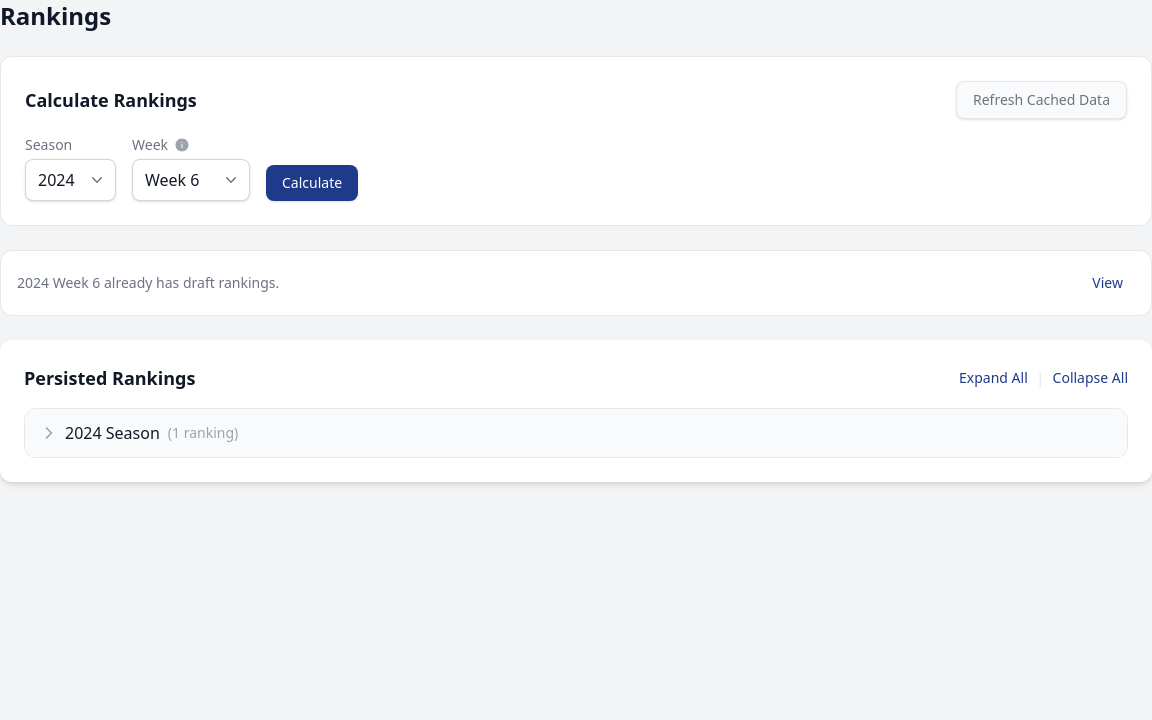
RankingsSnapshotsPage › clears calculated result when matching rankings snapshot is deleted
Click the button "Calculate" at (312, 183), box x1=266 y1=165 x2=358 y2=201
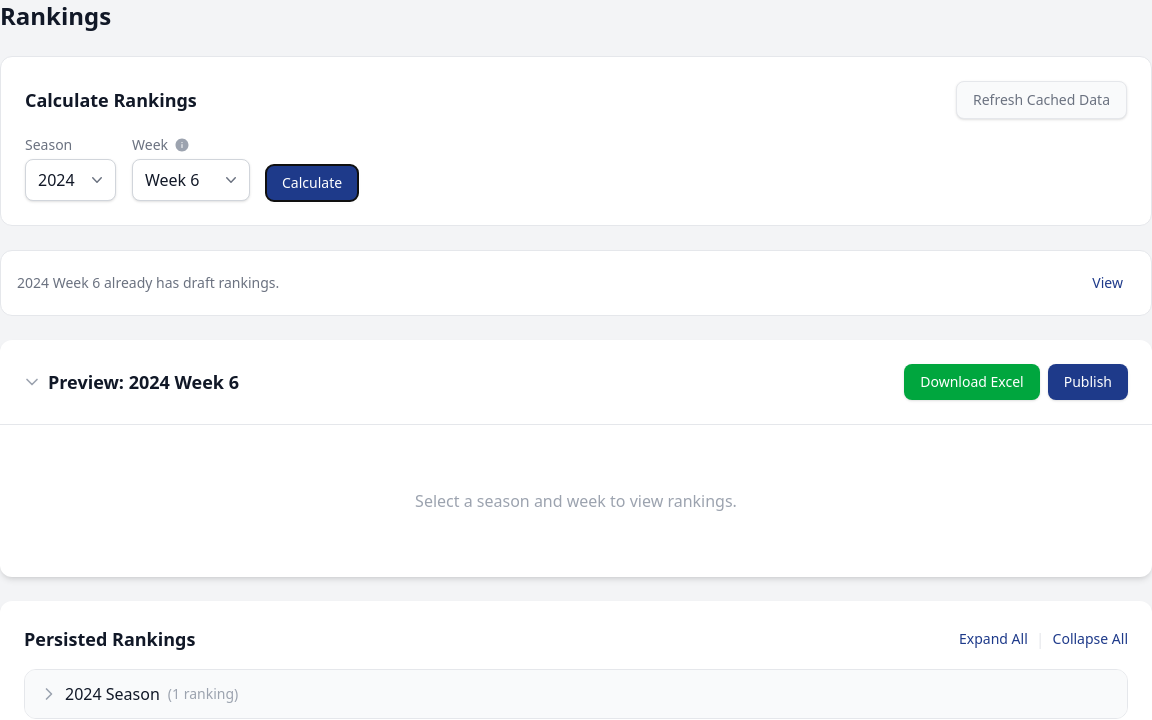
Expected: the button "Preview: 2024 Week 6" is shown, x1=24 y1=368 x2=239 y2=396
Click the text "2024 Season" at (112, 694), box x1=65 y1=682 x2=160 y2=706
(page scrolled)
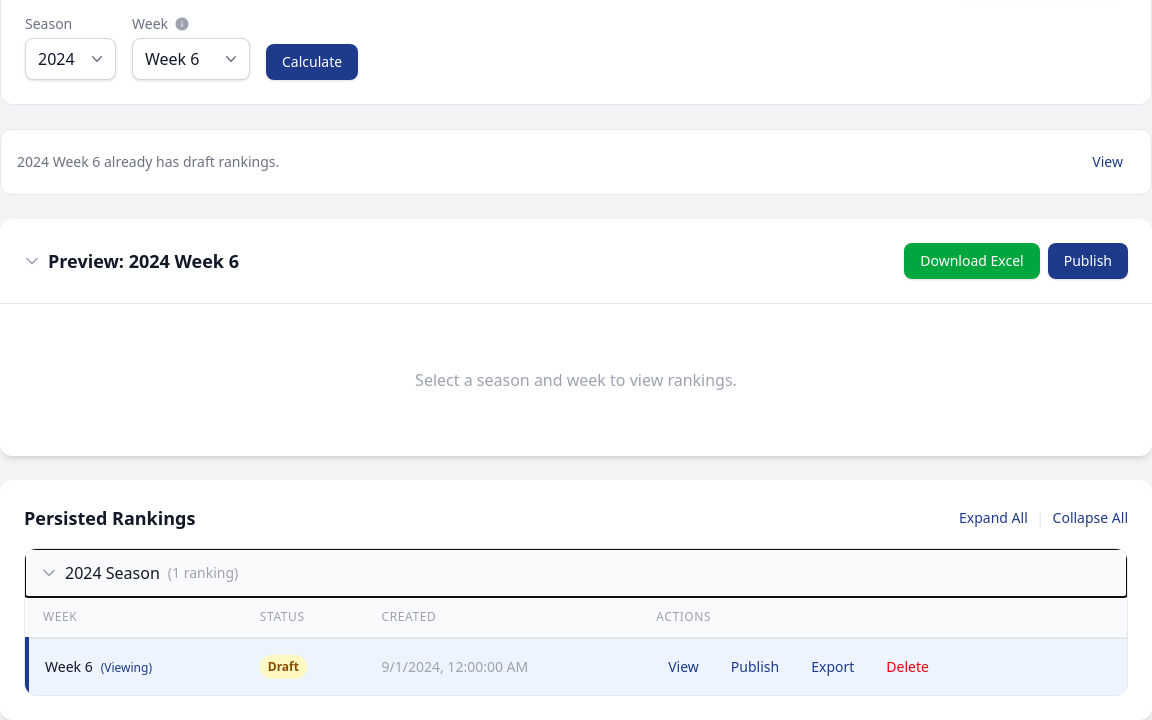
Click the button "Delete" at (908, 667), box x1=874 y1=651 x2=941 y2=683
(page scrolled)
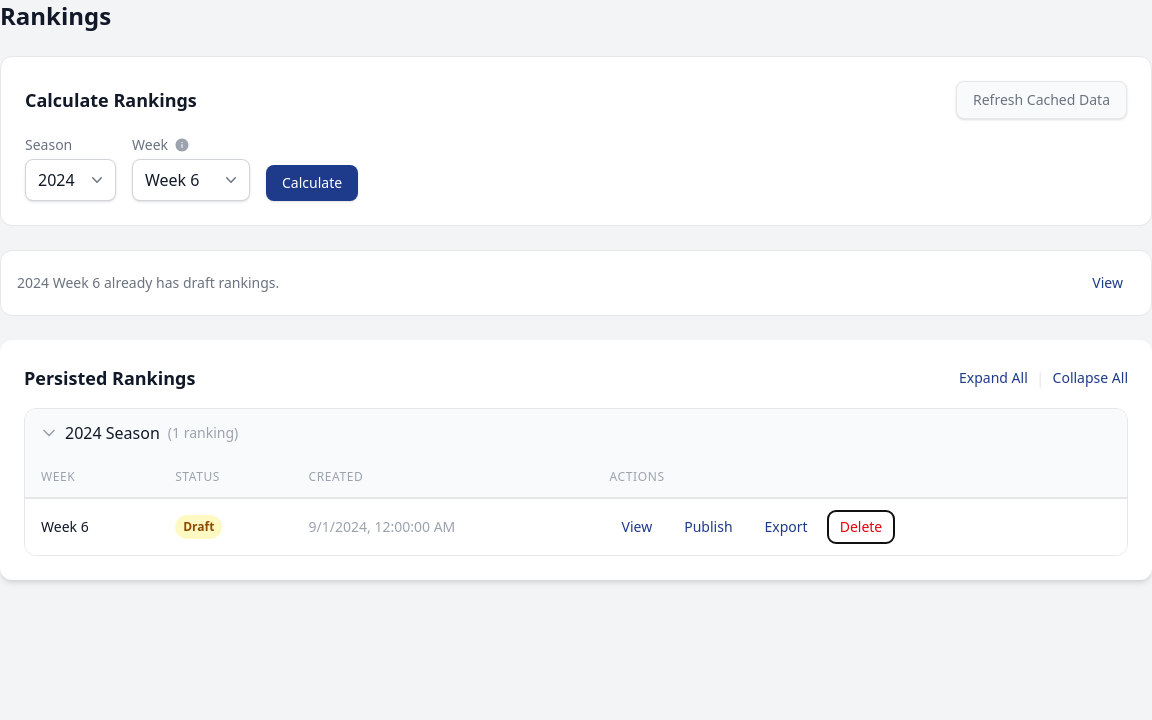
Expected: the button "Preview: 2024 Week 6" is gone
